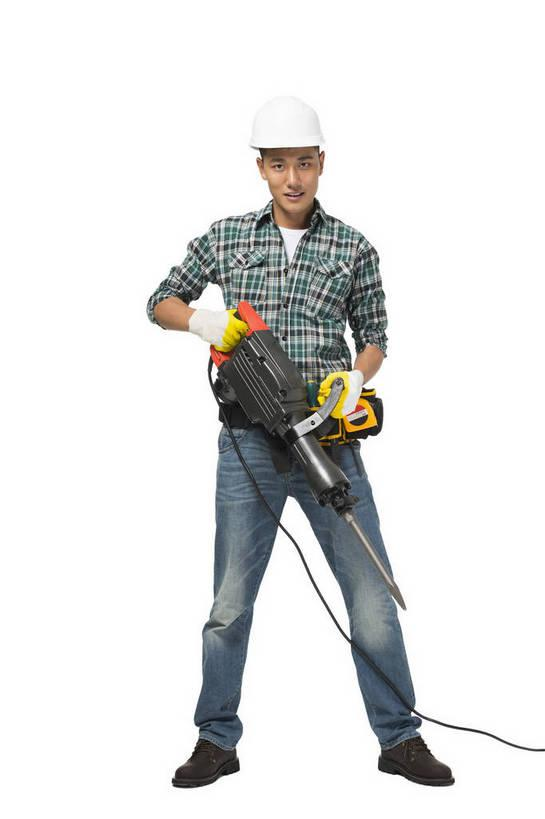helmet: (247, 94, 327, 157)
